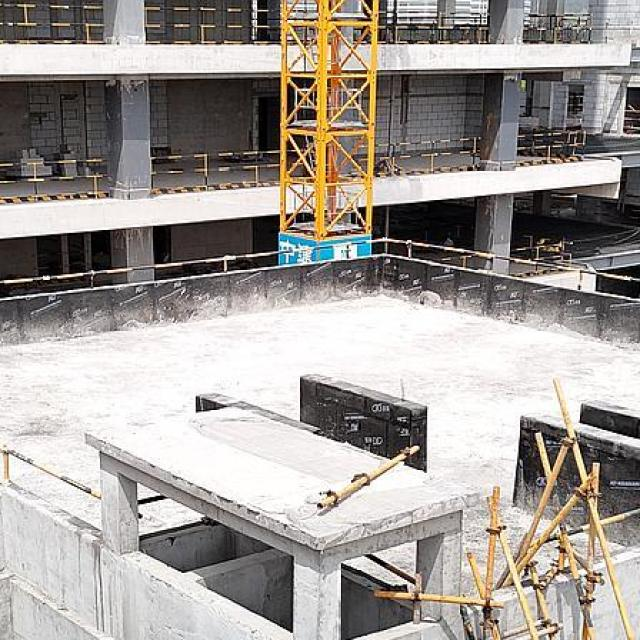Guardrail: (0, 237, 640, 290), (1, 428, 102, 503), (151, 148, 306, 191), (528, 507, 640, 558), (144, 6, 280, 45), (356, 136, 481, 176), (0, 153, 111, 197), (0, 3, 106, 44), (0, 158, 111, 195), (376, 9, 490, 45), (517, 128, 587, 163), (511, 236, 574, 274), (523, 13, 591, 44), (436, 254, 473, 269), (624, 110, 640, 130), (568, 95, 583, 106)
